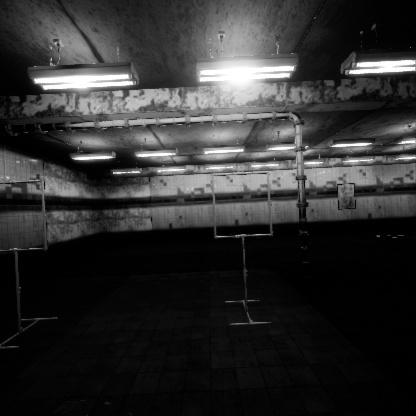gate: (211, 176, 277, 245)
